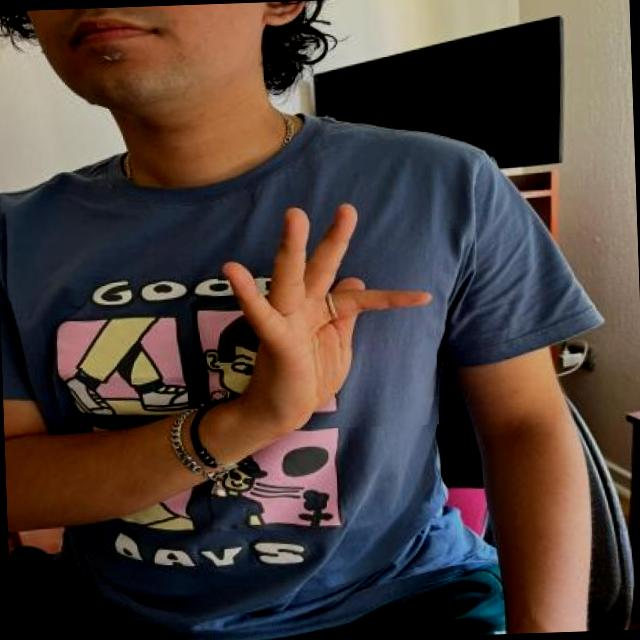F: (214, 188, 438, 432)
